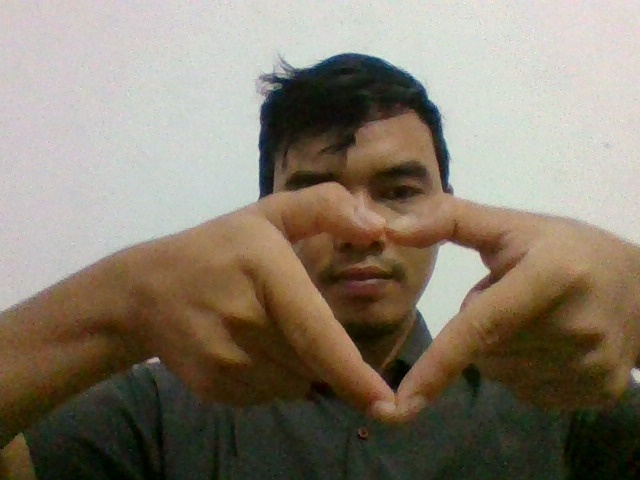iloveyou: (176, 176, 547, 436)
